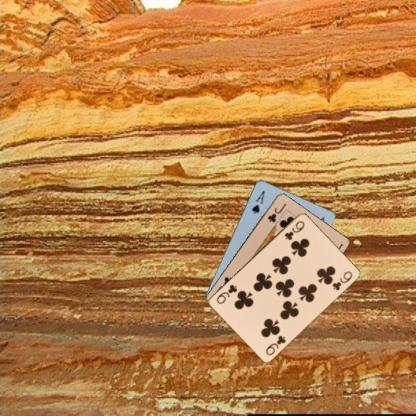9c: (263, 332, 287, 357), (282, 218, 306, 241)
As: (249, 188, 266, 215)
Jc: (264, 200, 288, 223)
